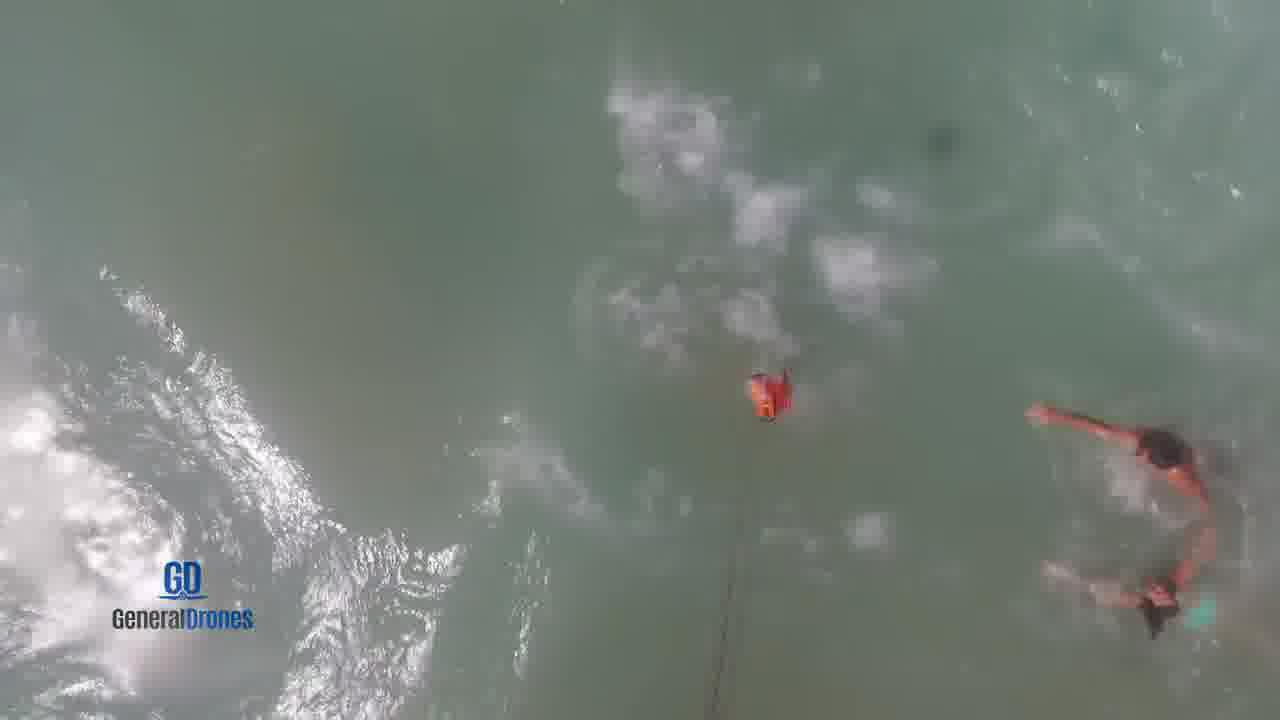swimmer: (1013, 390, 1220, 509), (1061, 526, 1228, 637)
